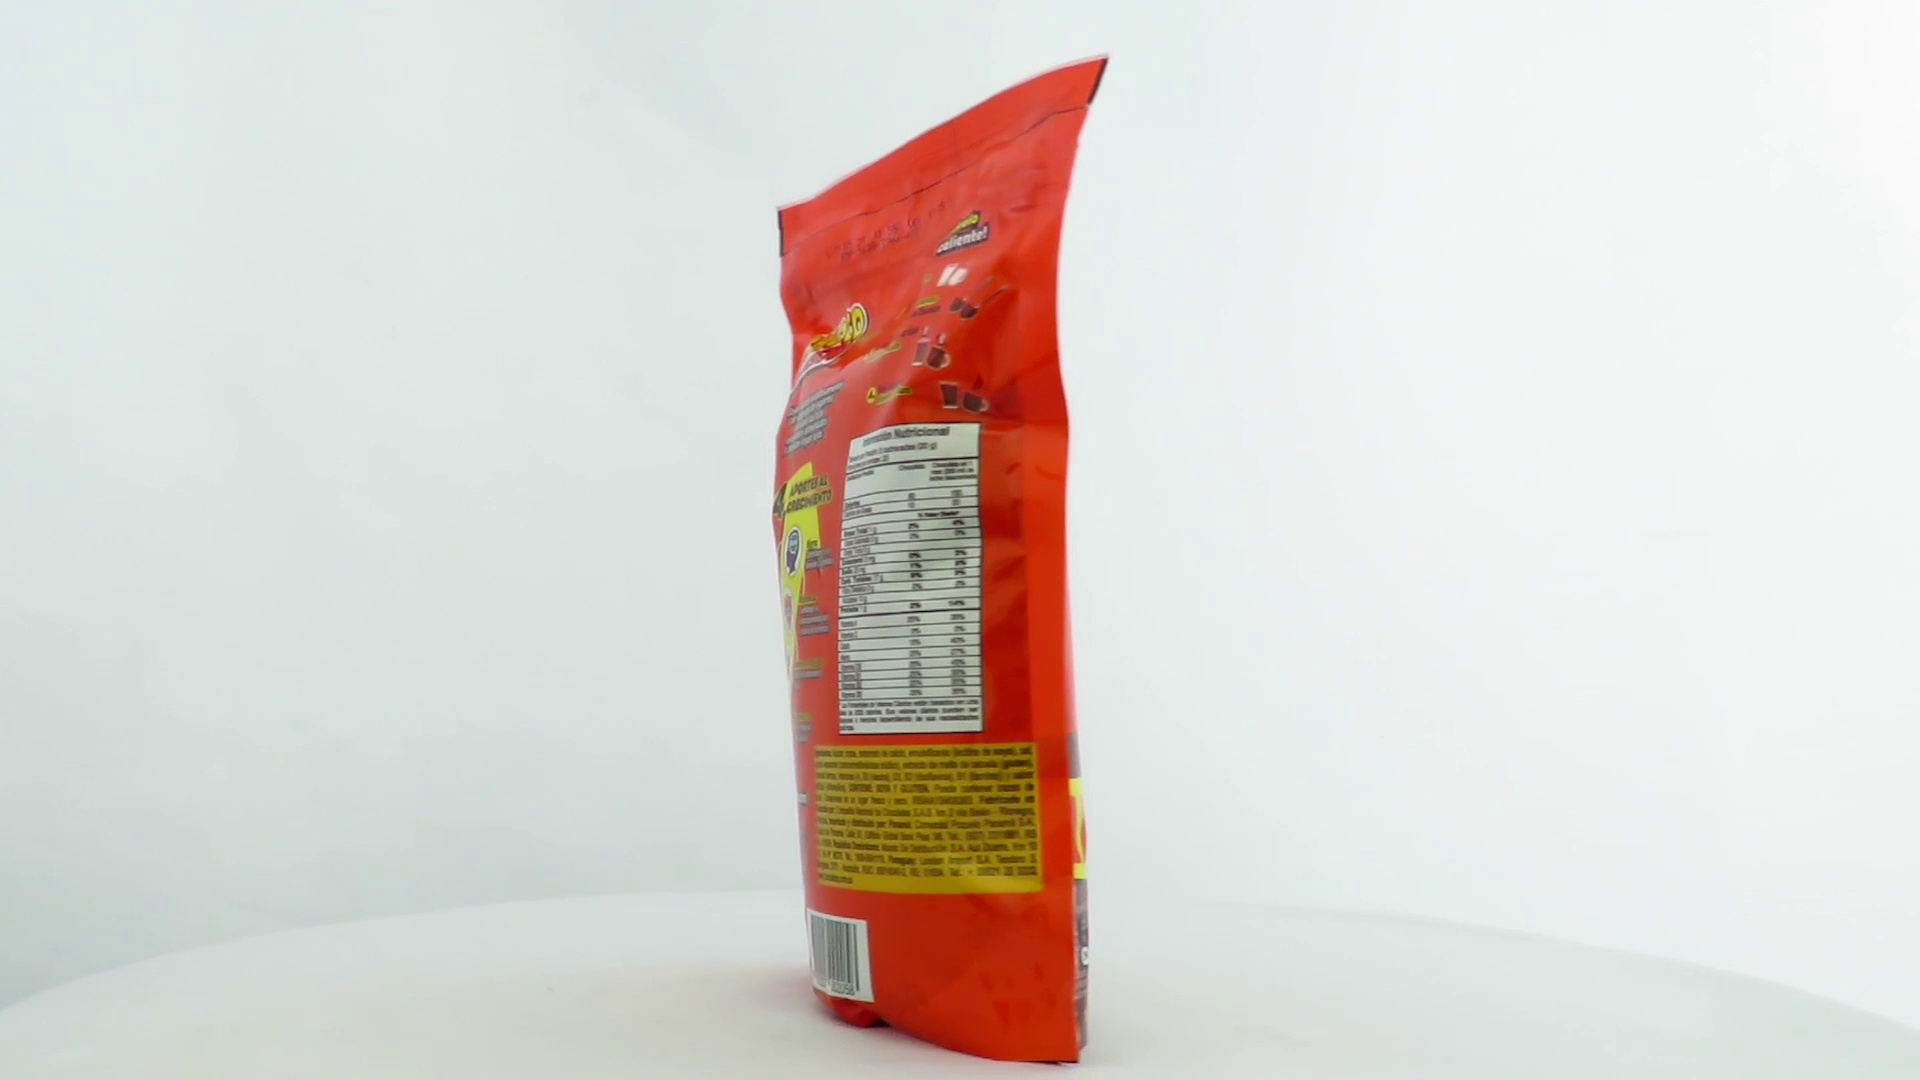COL0170103DYP40000: (767, 53, 1114, 1073)
